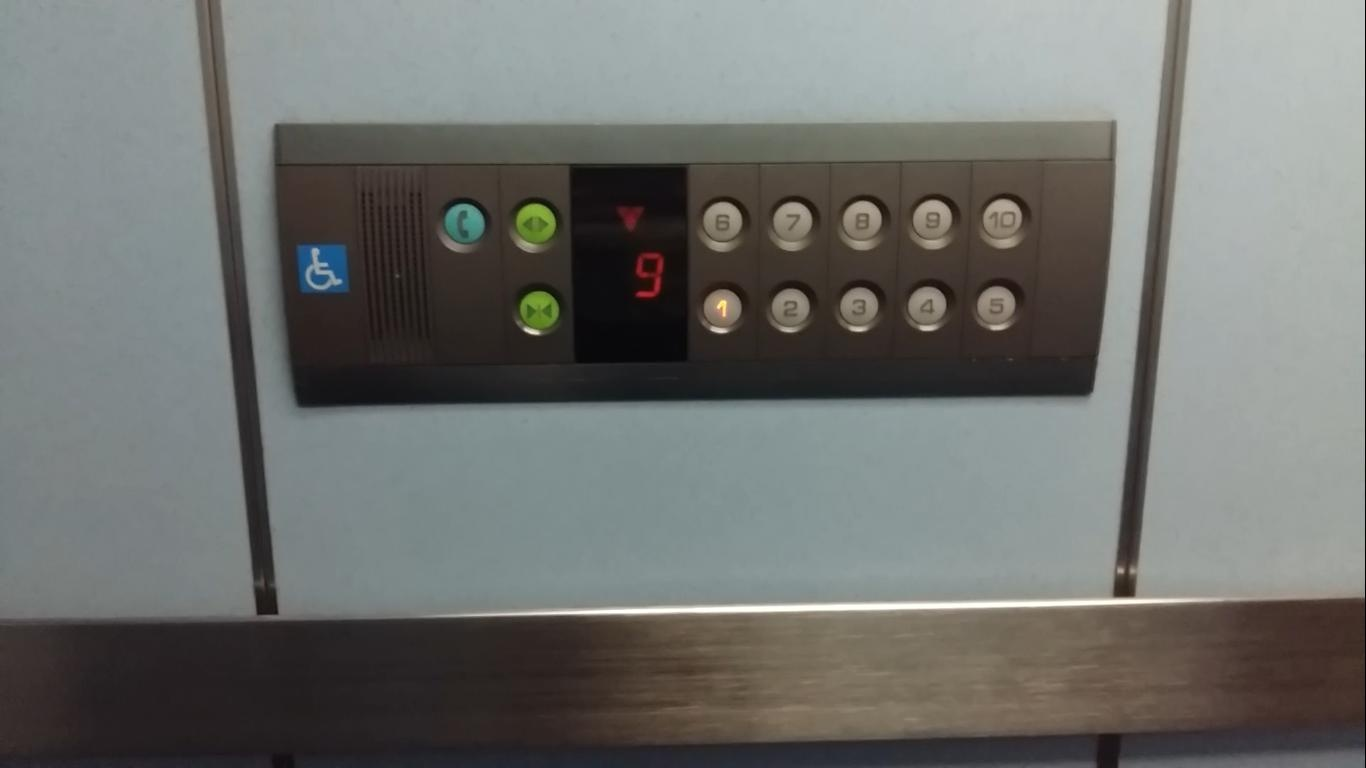1: (695, 280, 749, 335)
10: (976, 192, 1033, 251)
2: (764, 280, 820, 335)
3: (831, 279, 888, 333)
4: (901, 278, 957, 331)
5: (970, 277, 1026, 331)
6: (697, 195, 751, 254)
7: (765, 196, 821, 252)
8: (836, 194, 891, 251)
9: (905, 192, 962, 250)
CH: (296, 241, 352, 298)
call: (436, 196, 493, 255)
close: (510, 283, 568, 336)
led: (566, 159, 692, 368)
open: (507, 198, 565, 254)
